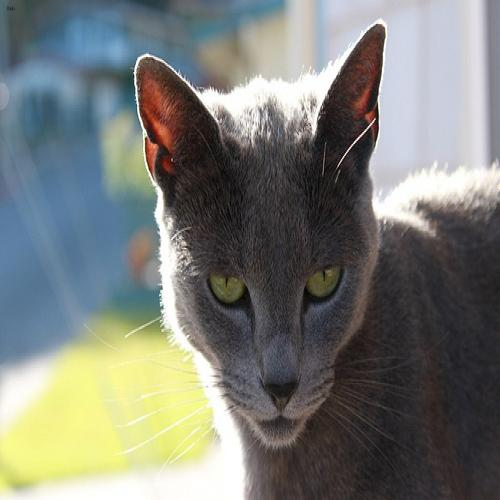rblue: (119, 13, 401, 466)
